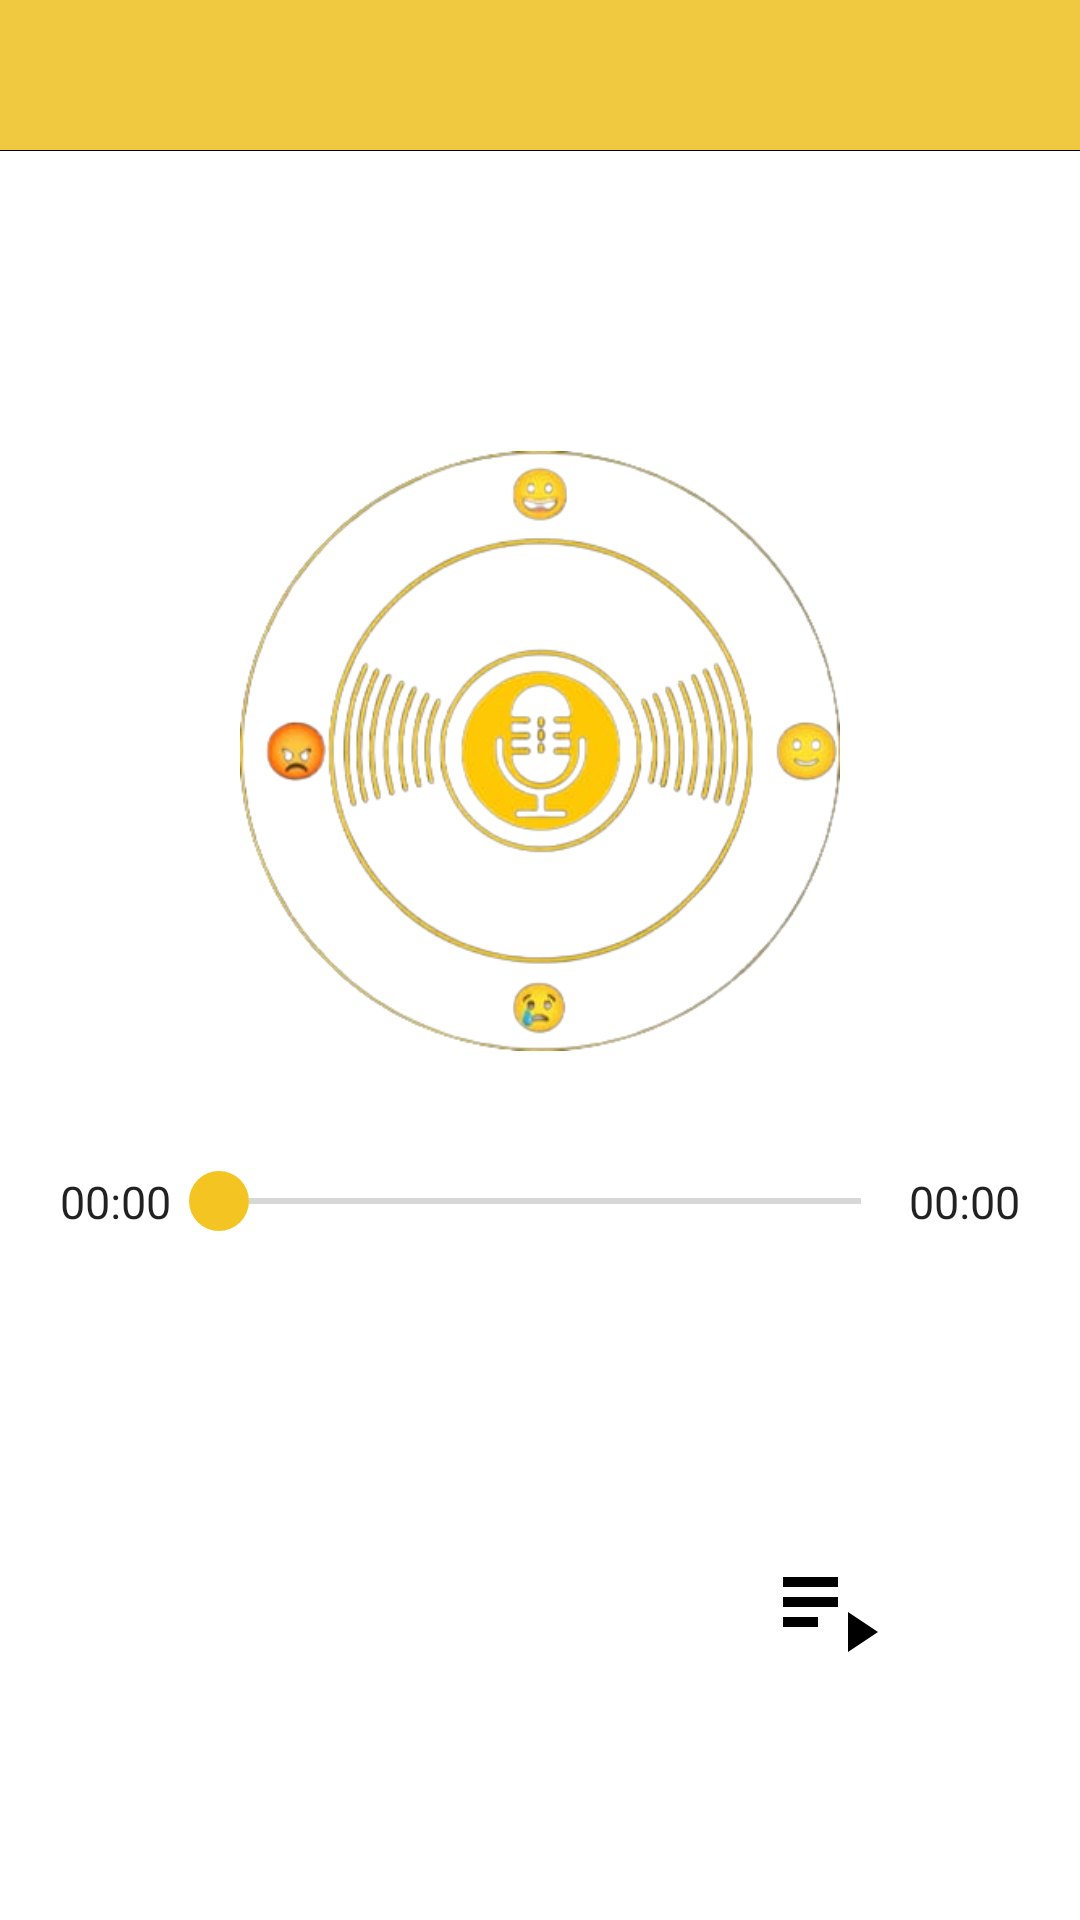

Named icons in this screenshot (1080w x 1920h) and their centers, point (x, y):
playlist play: point (830, 1614)
